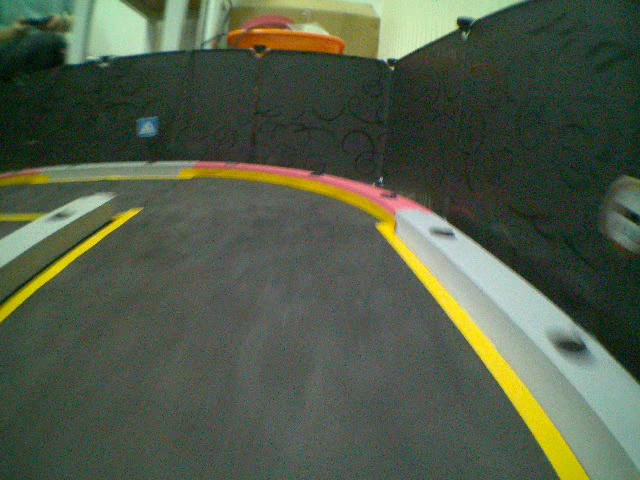crossing: (134, 115, 155, 137)
